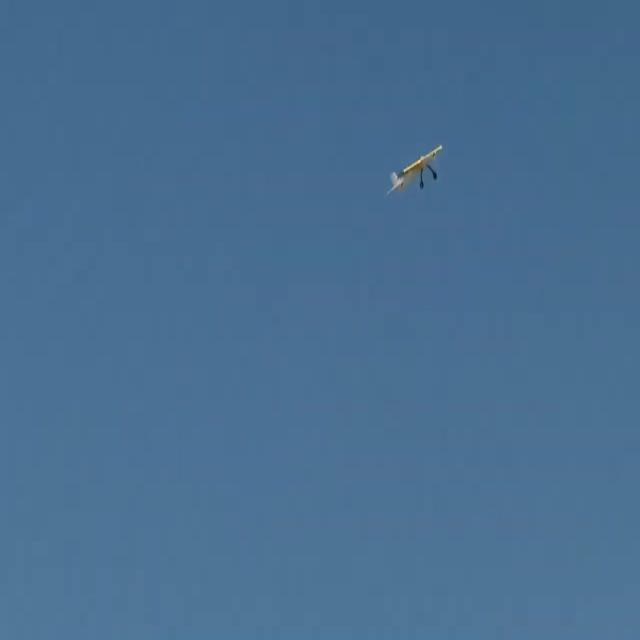iha: (386, 144, 444, 198)
